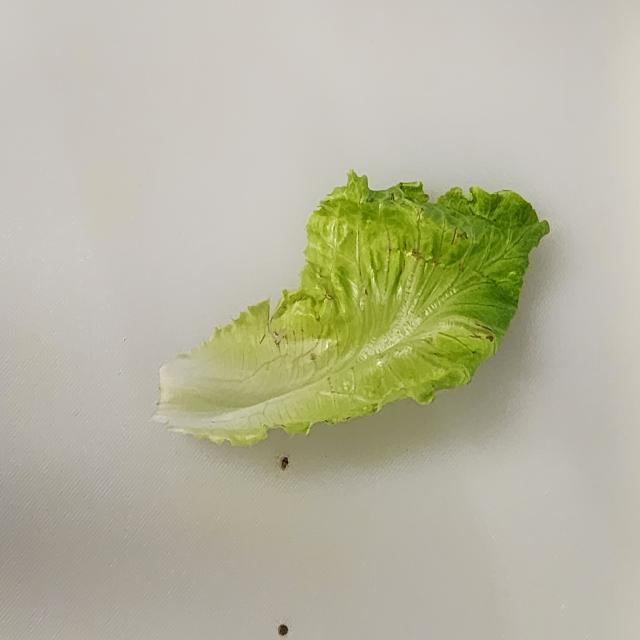lettuce: (151, 168, 550, 449)
